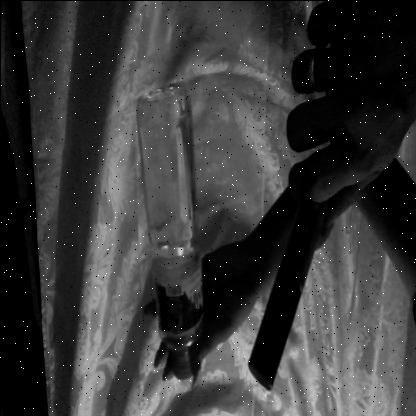Plastic Bottle: (111, 38, 214, 399)
